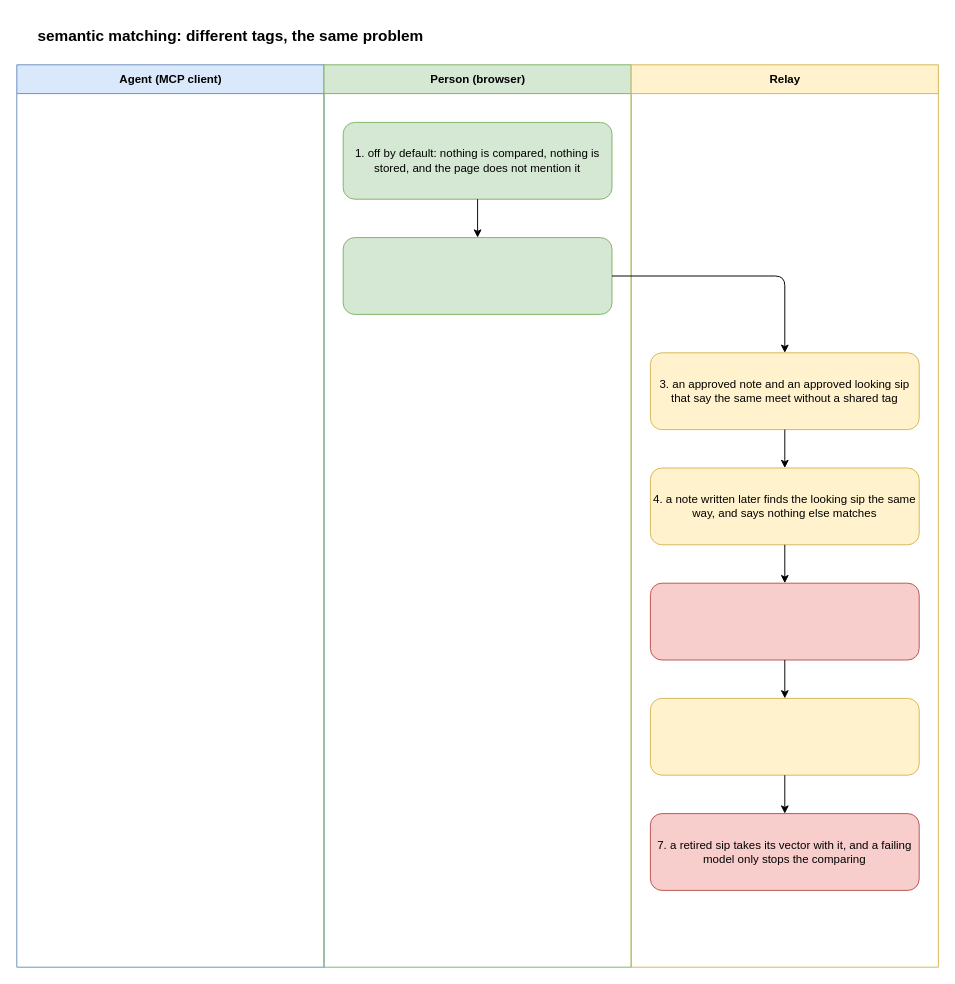
Some shapes in this 955 by 984 pixel diagram are drawn without their labels. Here are the shapes that lost their labels. From the top down, the centre of each, then its label:
(x=477, y=275): 2. on: the approval page says so before the person decides
(x=784, y=621): 5. a person in no shared circle is never compared
(x=784, y=736): 6. a public circle is left out, also when both people ticked it
